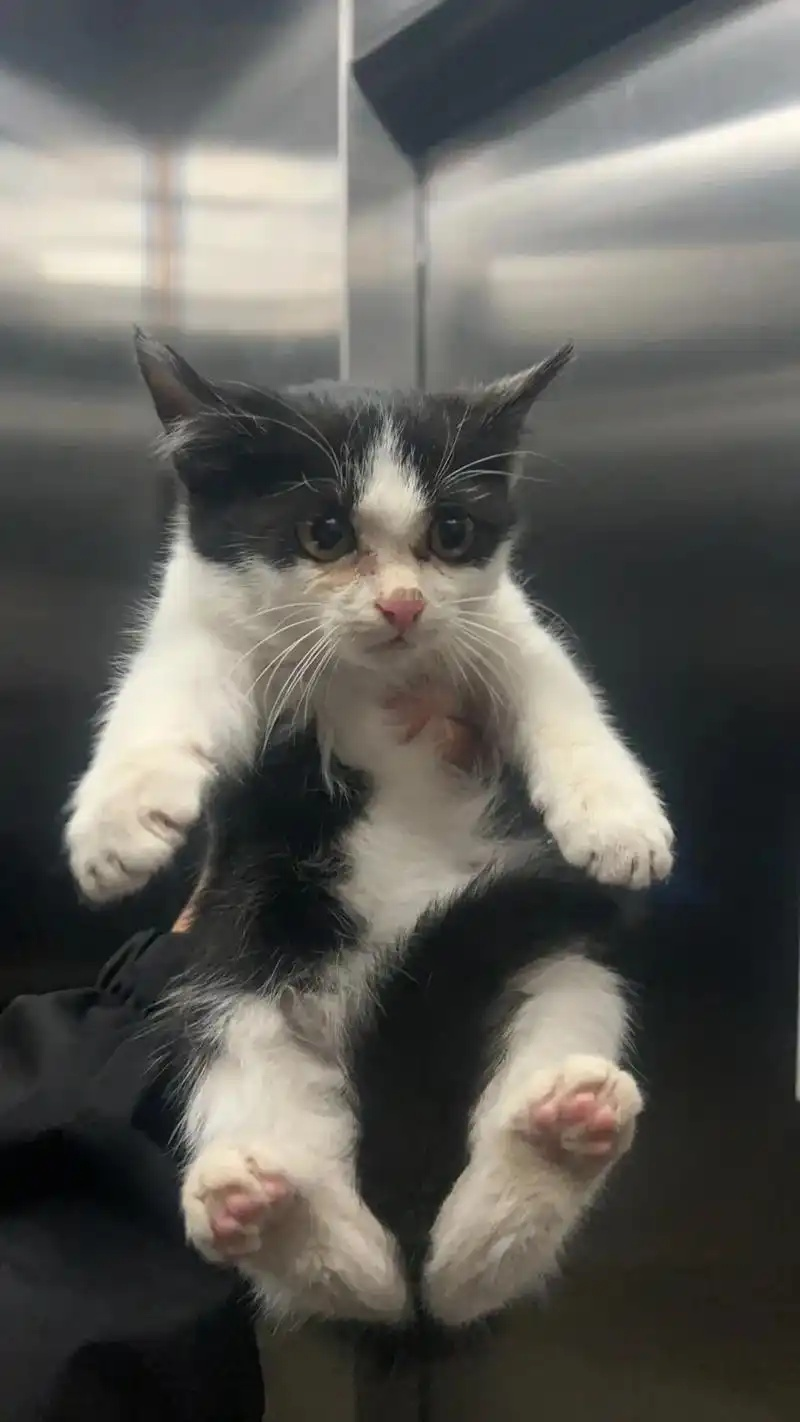奶牛猫: (67, 330, 670, 900)
